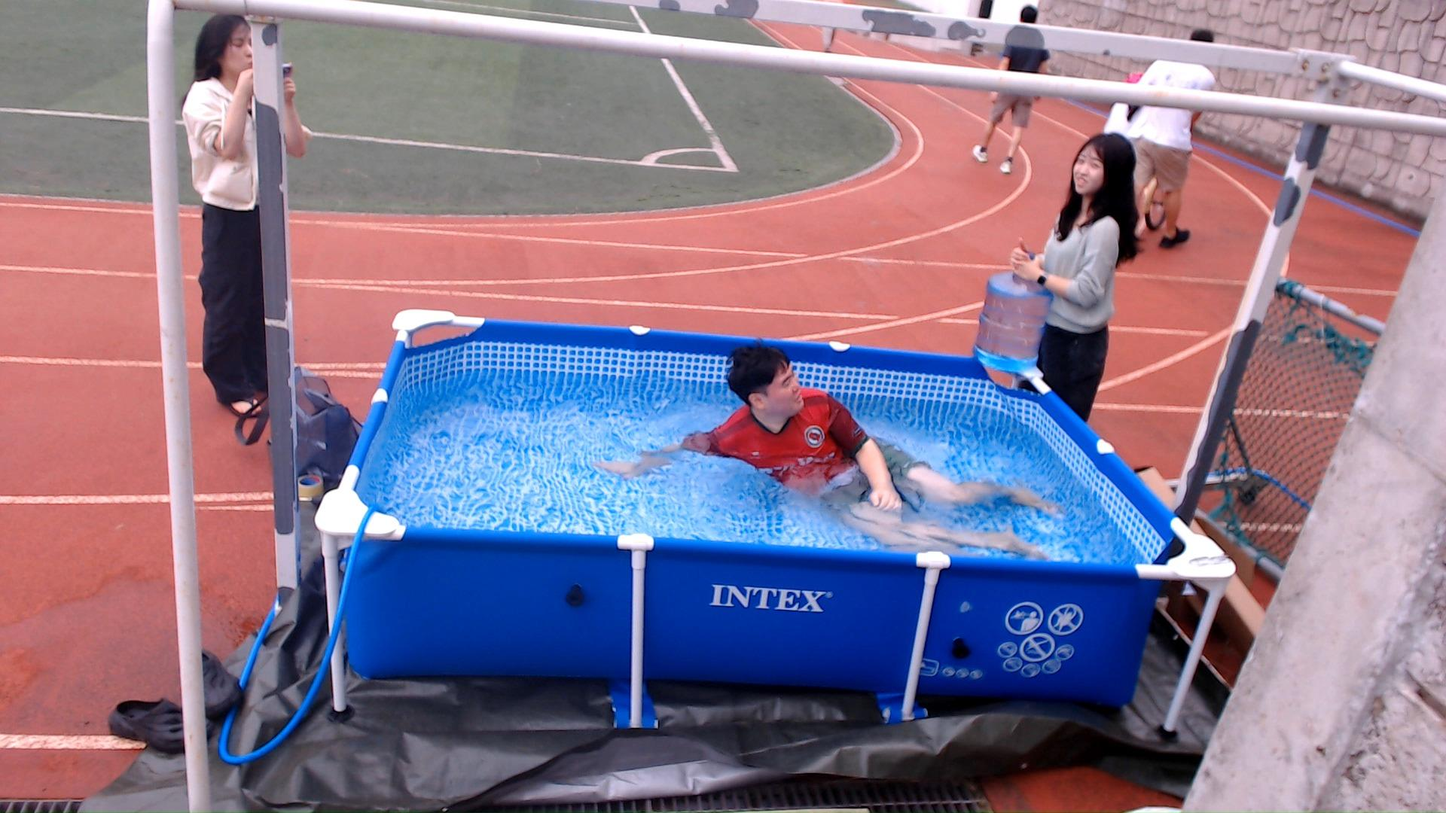Swimming: (609, 307, 1043, 546)
